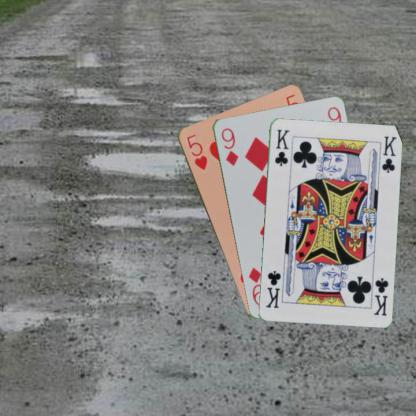5h: (181, 131, 208, 172)
9d: (218, 125, 239, 167)
Kc: (370, 275, 390, 317), (272, 127, 291, 168)
